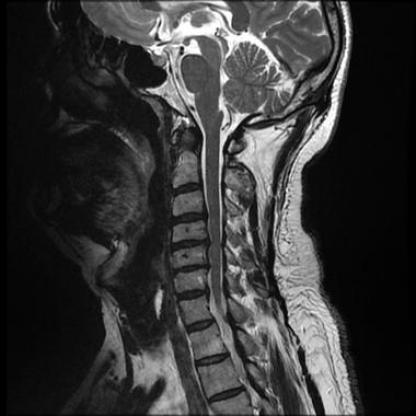Disc Protrusionrotation: (170, 261, 209, 276), (173, 286, 209, 302), (169, 237, 210, 251), (169, 210, 207, 225)
Osteophytesrotation: (170, 261, 209, 276), (173, 286, 209, 302), (168, 237, 209, 251), (169, 210, 207, 225)
